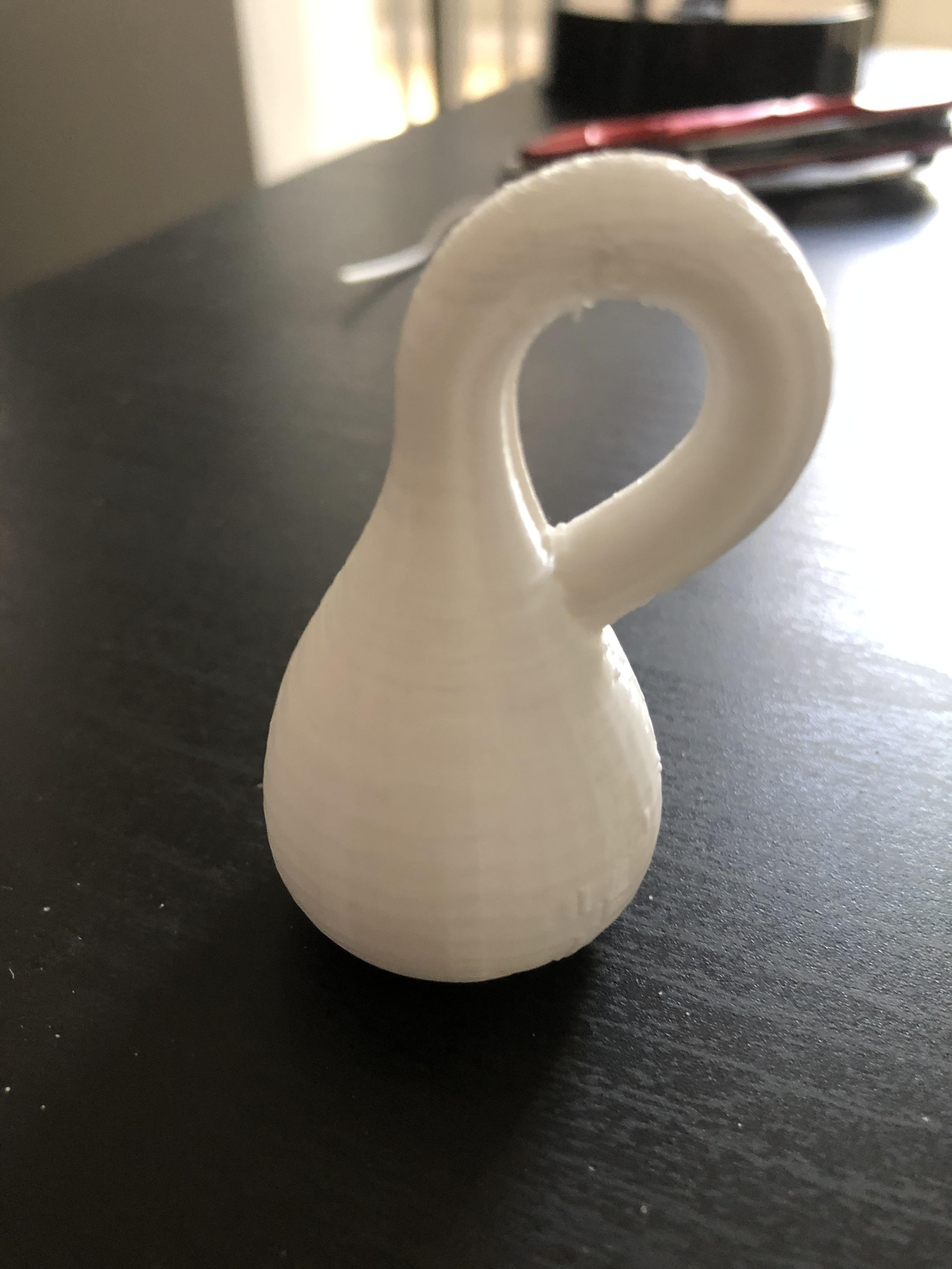3d print: (263, 152, 832, 983)
